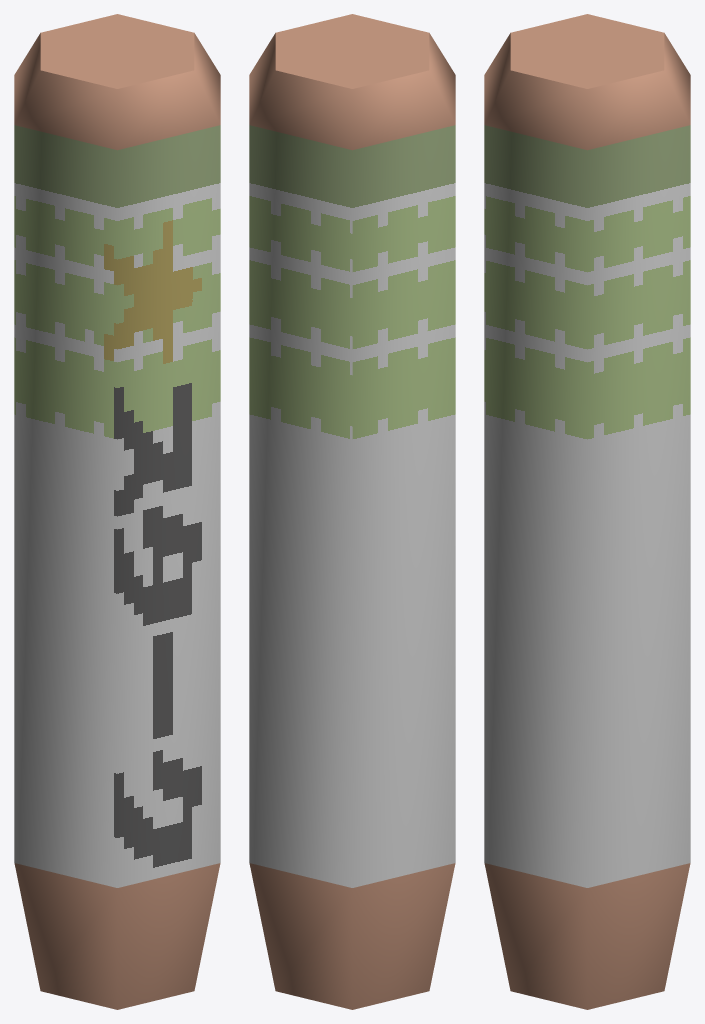
Rendered from 0335_Beige_Crayon.glb.
The picture shows the model from 3 angles, left to right: view 1: azimuth 30°, elevation 25°; view 2: azimuth 150°, elevation 25°; view 3: azimuth 270°, elevation 25°; orthographic projection.
Parts seen in each view (by area): view 1: part_0; view 2: part_0; view 3: part_0.
Part boxes in pixels (left/top/right/bottom): part_0: left=14, top=14, right=220, bottom=1009; part_0: left=249, top=14, right=455, bottom=1009; part_0: left=484, top=14, right=690, bottom=1009.
Bounding box in the file's own units: 0.014 × 0.0598 × 0.0121.
Materials: 1 (1 with a texture image).
